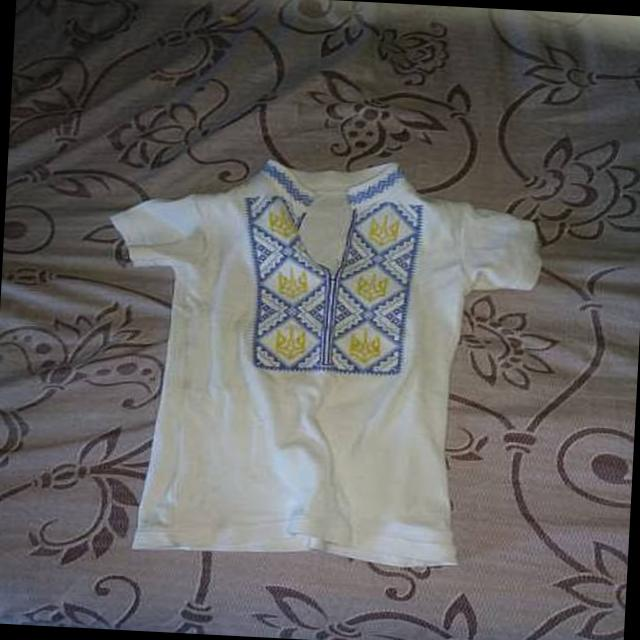T_SHIRT: (71, 142, 570, 578)
